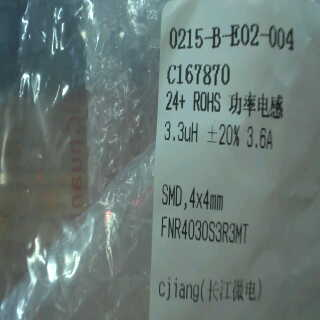3.3uH: (161, 116, 206, 151)
